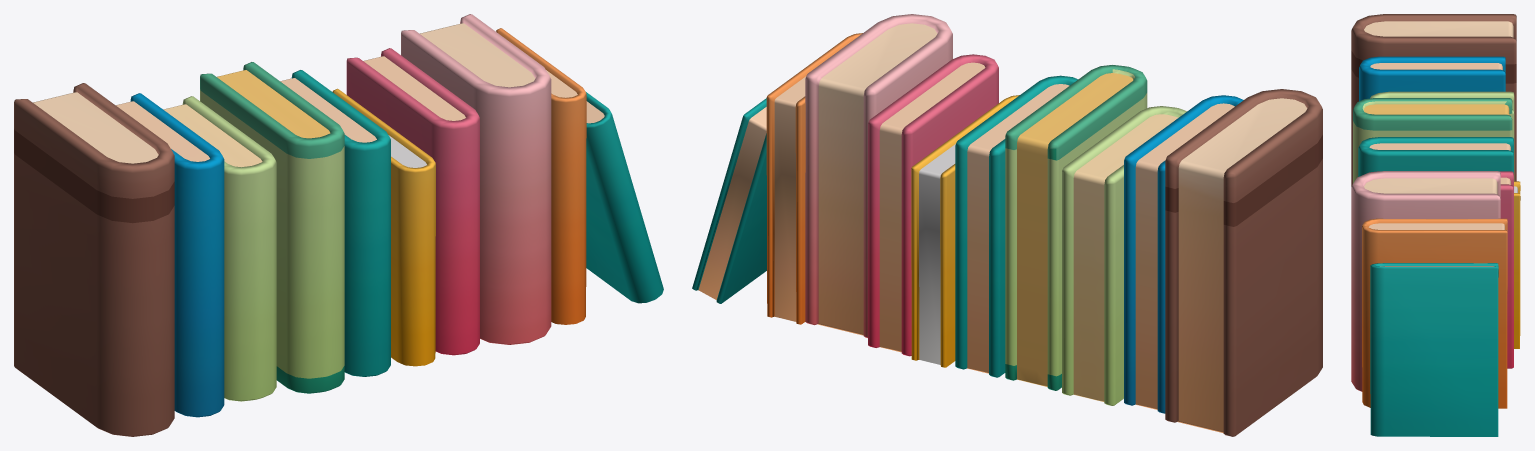
Rendered from Book_03.glb.
3 renders of one model, left to right at view 1: azimuth 30°, elevation 25°; view 2: azimuth 150°, elevation 25°; view 3: azimuth 270°, elevation 25°, orthographic. The views are drawn at different scales.
Parts seen in each view (by area): view 1: Book_03; view 2: Book_03; view 3: Book_03.
Boxes of the visible parts, x1,y1,x2,y2 form: Book_03: [14, 14, 663, 436]; Book_03: [692, 14, 1322, 436]; Book_03: [1351, 14, 1520, 436].
Size of the model in its own units: 0.6973 by 0.3198 by 0.2293.
1 material, 1 textured.
